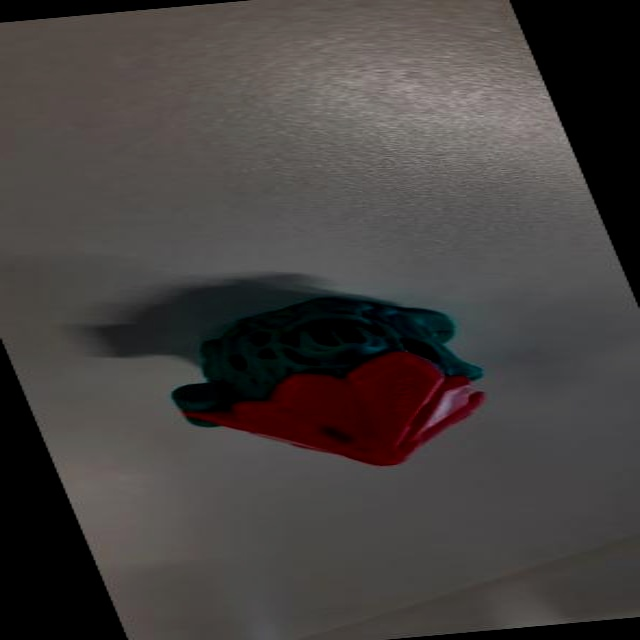House: (125, 275, 546, 493)
